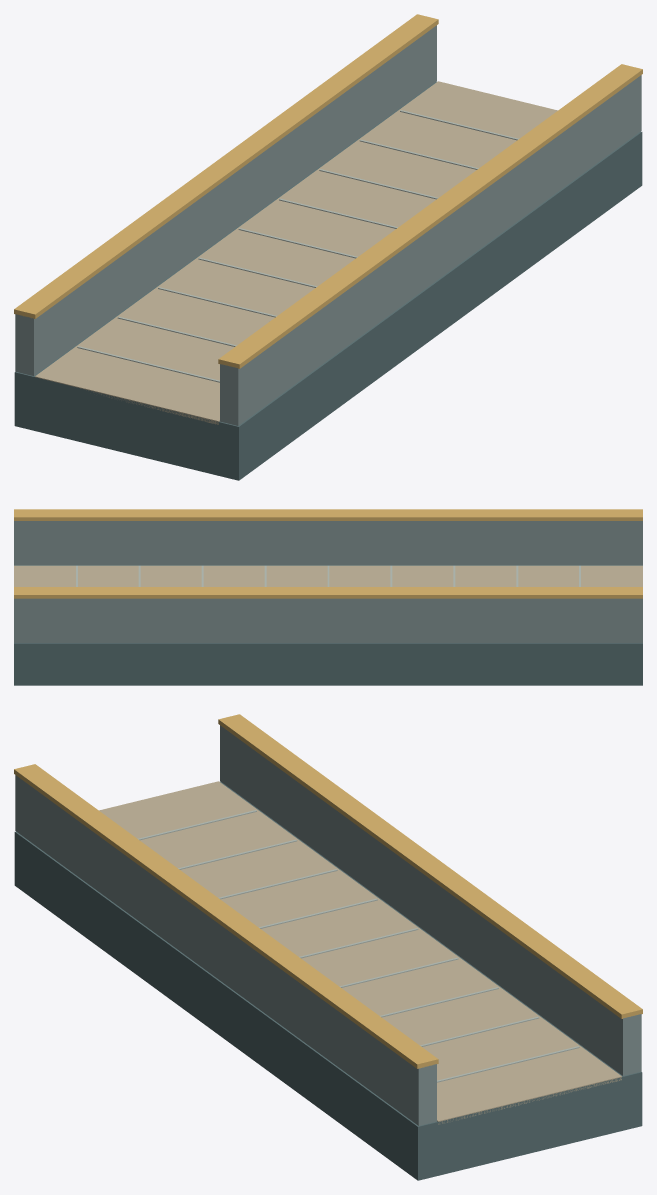
File: SM_R02B_Corridor_1_3.fbx
3 views of the same model, one above another, from view 1: azimuth 30°, elevation 25°; view 2: azimuth 150°, elevation 25°; view 3: azimuth 270°, elevation 25° (orthographic). The views are drawn at different scales.
Visible parts, largest first — view 1: SM_R02B_Corridor_1_3; view 2: SM_R02B_Corridor_1_3; view 3: SM_R02B_Corridor_1_3.
Boxes of the visible parts, x1,y1,x2,y2 form: SM_R02B_Corridor_1_3: (14,14,642,480); SM_R02B_Corridor_1_3: (14,509,642,685); SM_R02B_Corridor_1_3: (14,714,642,1180).
Bounding box in the file's own units: 1952 × 1482 × 303.
